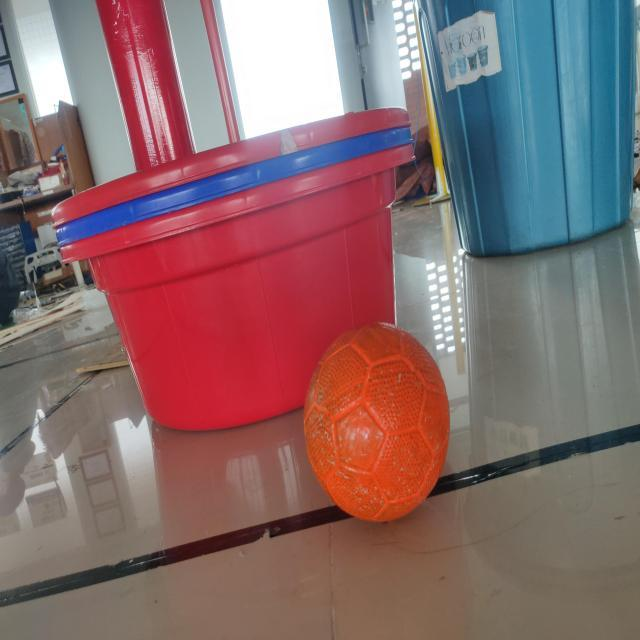bola: (298, 313, 454, 528)
